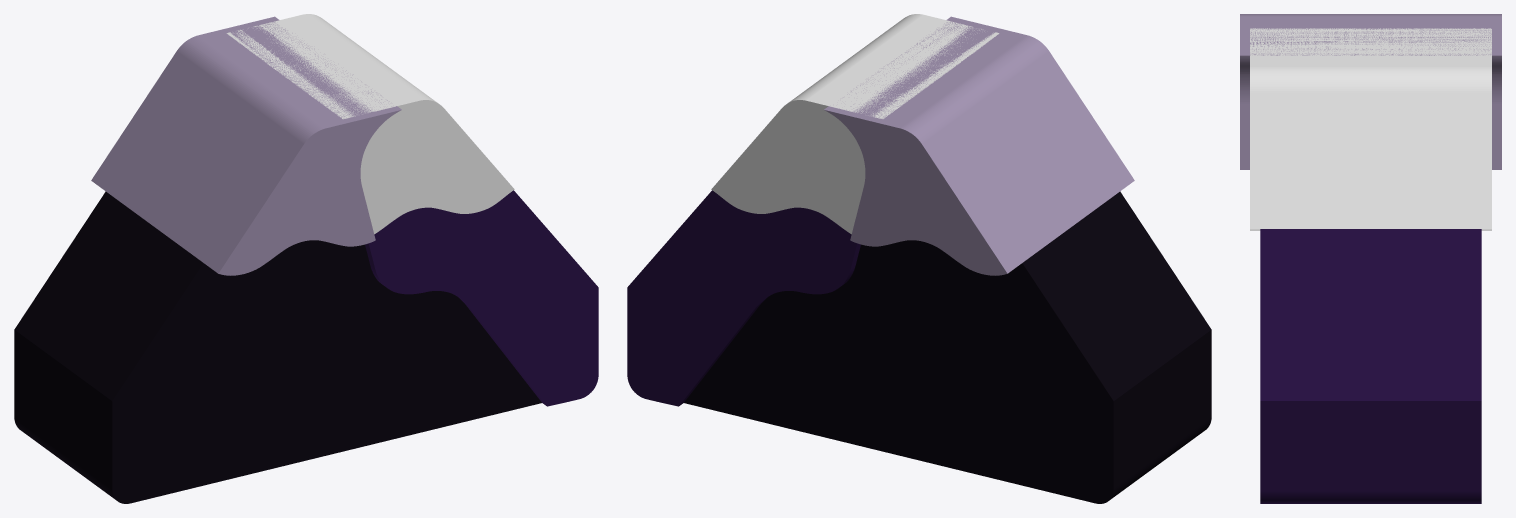
3 renders of one model, left to right at view 1: azimuth 30°, elevation 25°; view 2: azimuth 150°, elevation 25°; view 3: azimuth 270°, elevation 25°, orthographic. The views are drawn at different scales.
Visible parts, largest first — view 1: U+1F5FB_layer00_obj00, U+1F5FB_layer03_obj00, U+1F5FB_layer01_obj00, U+1F5FB_layer02_obj00; view 2: U+1F5FB_layer00_obj00, U+1F5FB_layer03_obj00, U+1F5FB_layer01_obj00, U+1F5FB_layer02_obj00; view 3: U+1F5FB_layer01_obj00, U+1F5FB_layer02_obj00, U+1F5FB_layer03_obj00.
Boxes of the visible parts, bbox=[...] form: U+1F5FB_layer00_obj00: bbox=[14, 191, 541, 503]; U+1F5FB_layer03_obj00: bbox=[91, 16, 401, 275]; U+1F5FB_layer01_obj00: bbox=[365, 190, 598, 406]; U+1F5FB_layer02_obj00: bbox=[226, 14, 514, 234]; U+1F5FB_layer00_obj00: bbox=[684, 191, 1211, 503]; U+1F5FB_layer03_obj00: bbox=[824, 16, 1134, 275]; U+1F5FB_layer01_obj00: bbox=[627, 190, 860, 406]; U+1F5FB_layer02_obj00: bbox=[711, 14, 999, 234]; U+1F5FB_layer01_obj00: bbox=[1260, 229, 1481, 503]; U+1F5FB_layer02_obj00: bbox=[1250, 28, 1491, 230]; U+1F5FB_layer03_obj00: bbox=[1240, 14, 1501, 169].
Size of the model in its own units: 0.5678 by 0.3857 by 0.26.
